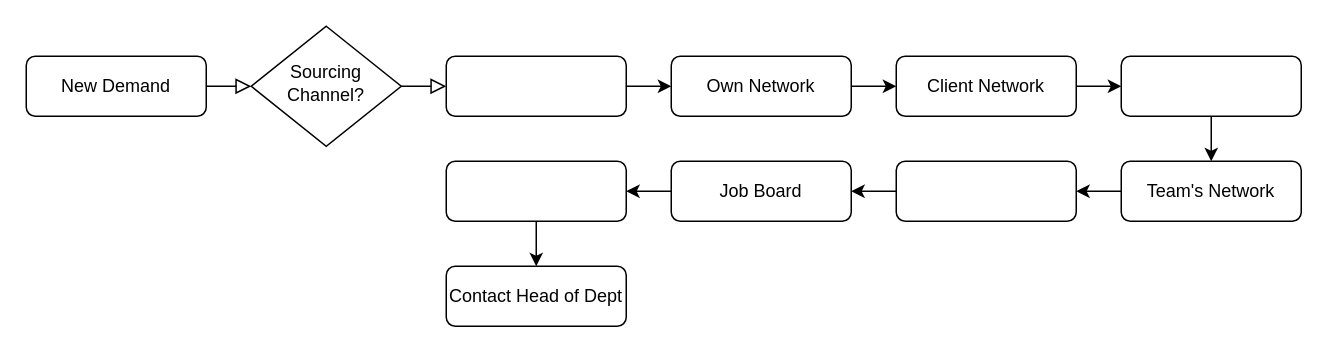
Image size: 1328x353. Some labels were removed from this diagram. Each missing label, with the centre of its shape:
"Company Database" goes at point (535, 85).
"Competitor's Network" goes at point (1210, 85).
"Field Sourcing" goes at point (535, 190).
"Paid Database" goes at point (985, 190).
